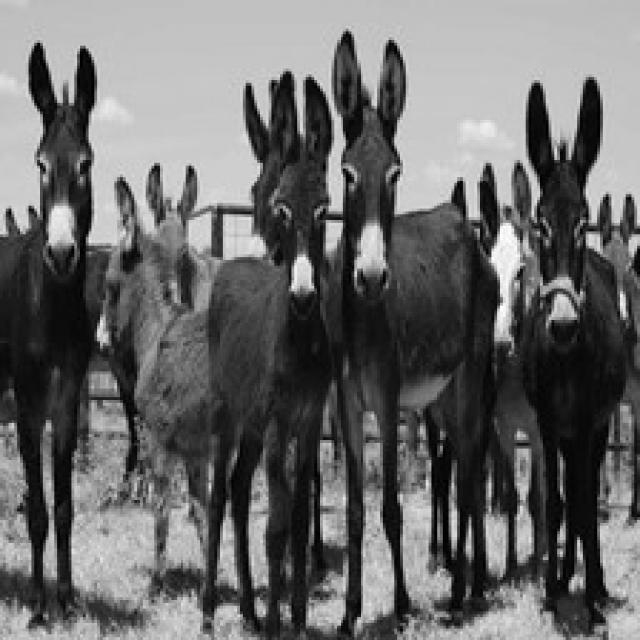Donkey: (323, 29, 500, 637), (97, 166, 289, 637), (203, 69, 331, 637), (520, 74, 629, 637), (0, 40, 97, 631), (94, 171, 206, 503), (137, 160, 217, 600), (474, 160, 546, 583), (597, 191, 637, 520)
